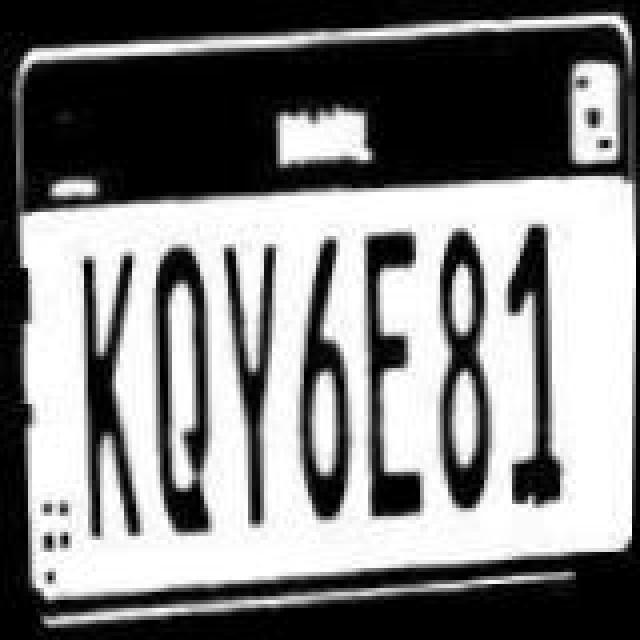1: (494, 212, 574, 508)
6: (284, 222, 368, 526)
8: (422, 218, 502, 518)
E: (354, 230, 434, 530)
K: (70, 238, 150, 554)
Q: (144, 234, 220, 538)
Y: (210, 222, 290, 530)
